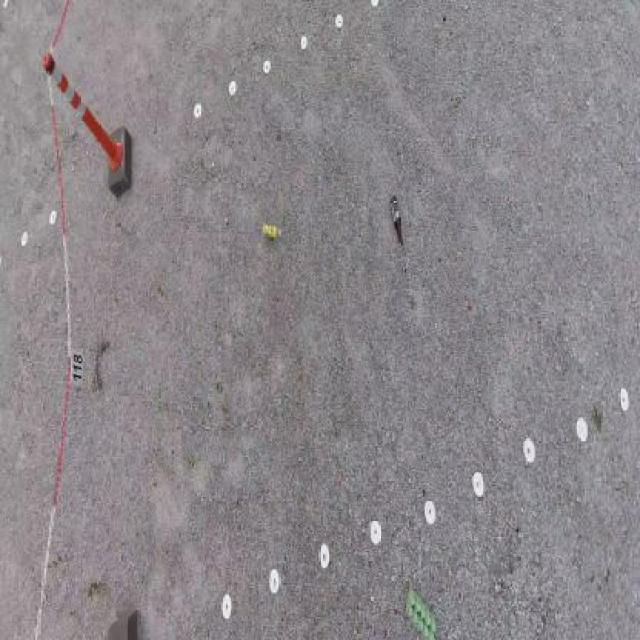Garbage: (404, 587, 437, 640), (390, 194, 403, 245), (262, 223, 280, 238)
